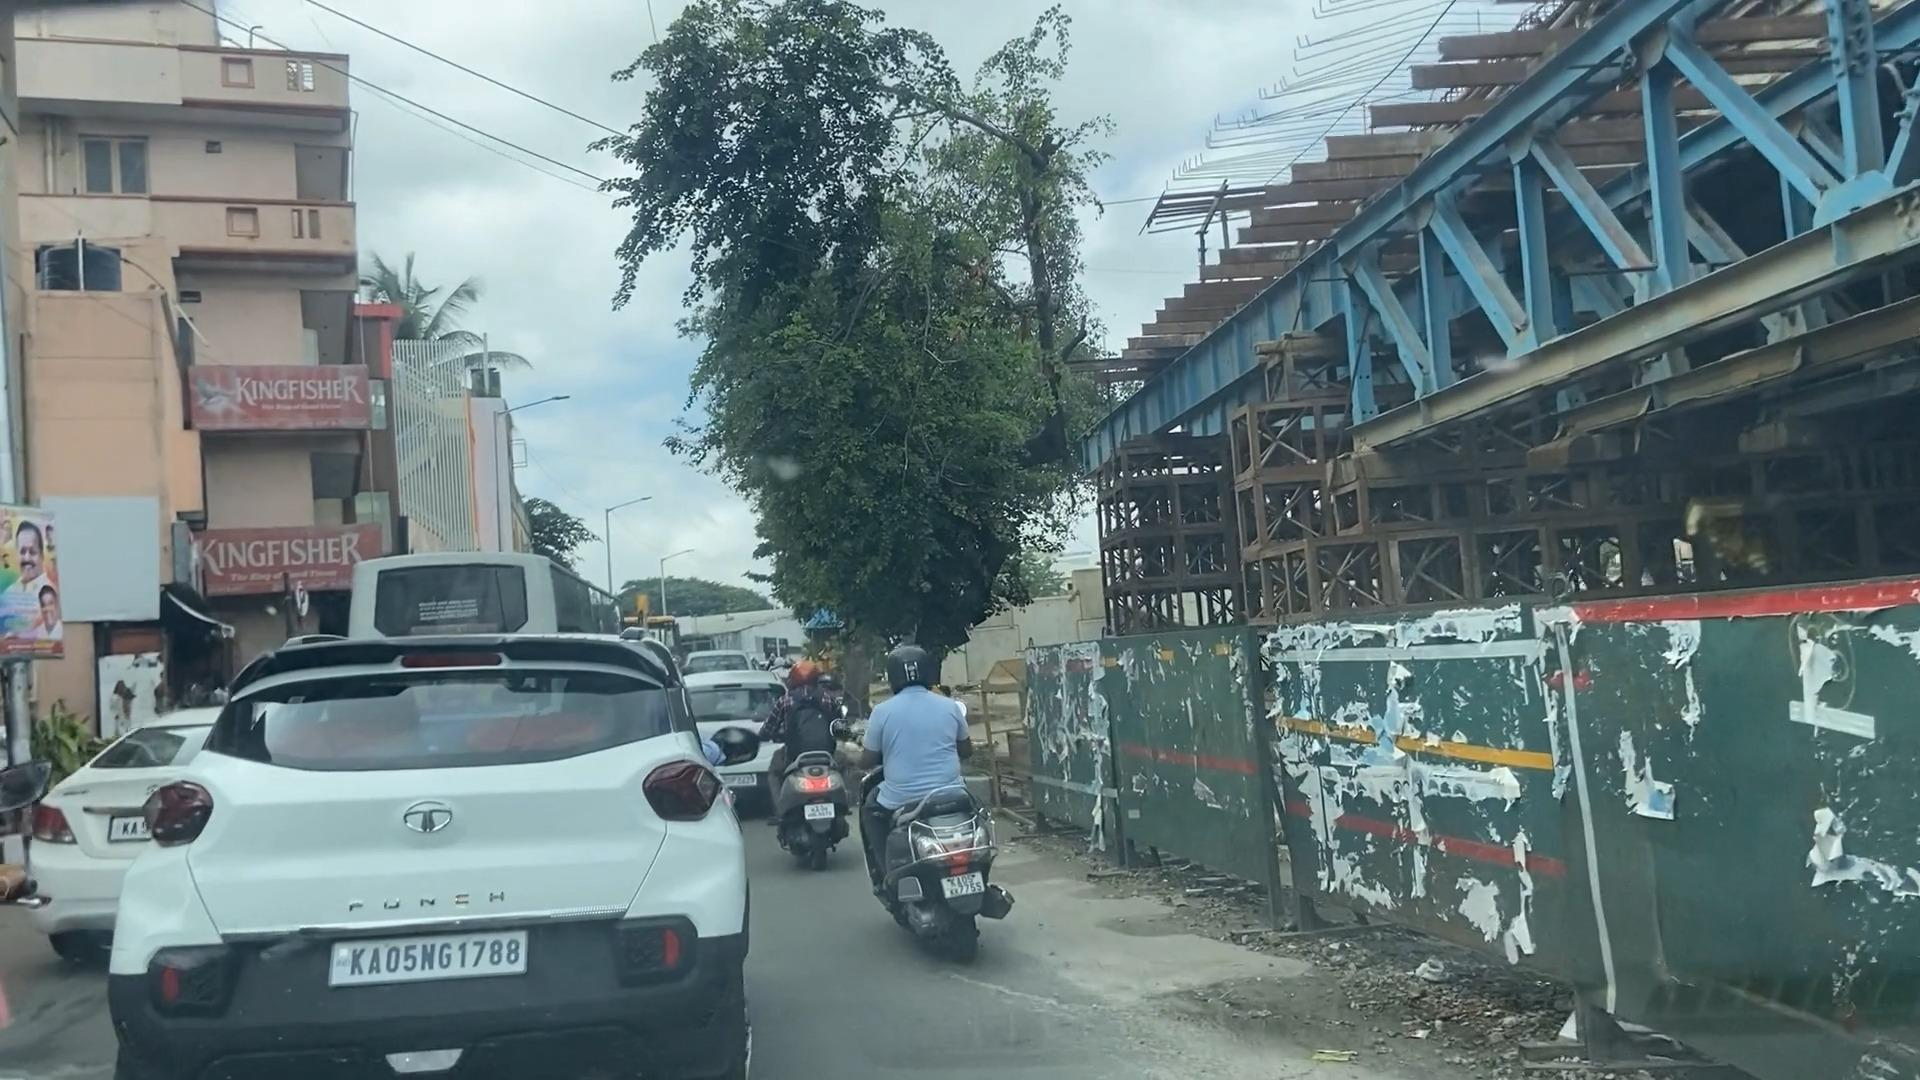LMV: (169, 662, 708, 1080), (878, 650, 978, 957), (771, 666, 837, 855)
